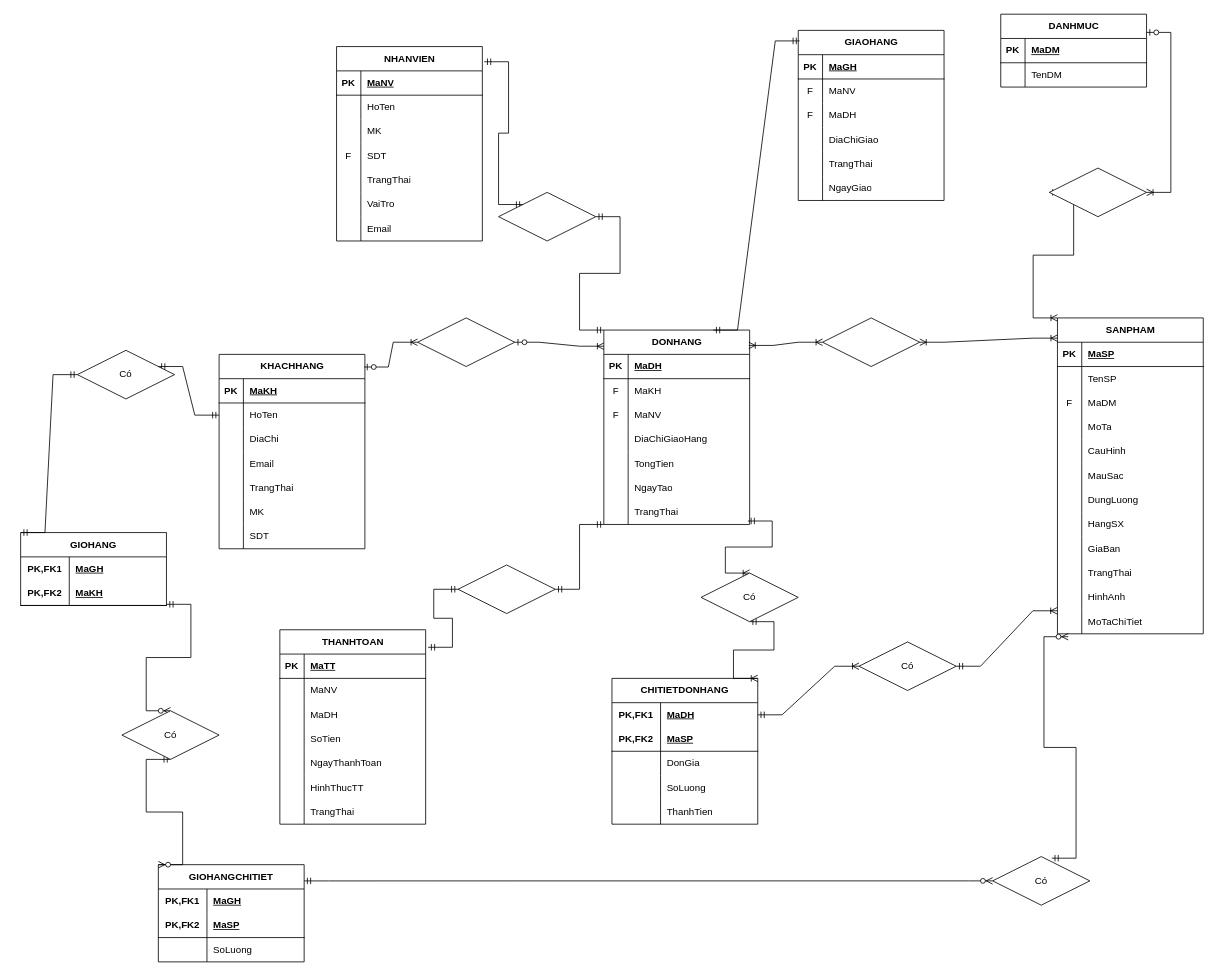
The diagram is 1217 pixels wide and 976 high, and some of its shapes have lost their labels. Here are the shapes that lost their labels. From the top down, the centre of each, then its label:
(1098,192): Phân loại
(547,216): Xử lý
(466,342): Đặt
(871,342): Bao gồm
(506,589): Thanh toán
